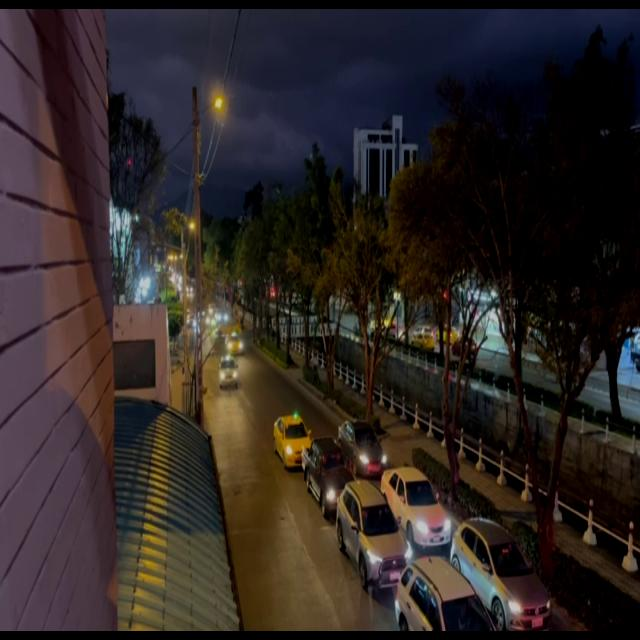CMT: (305, 437, 351, 512)
